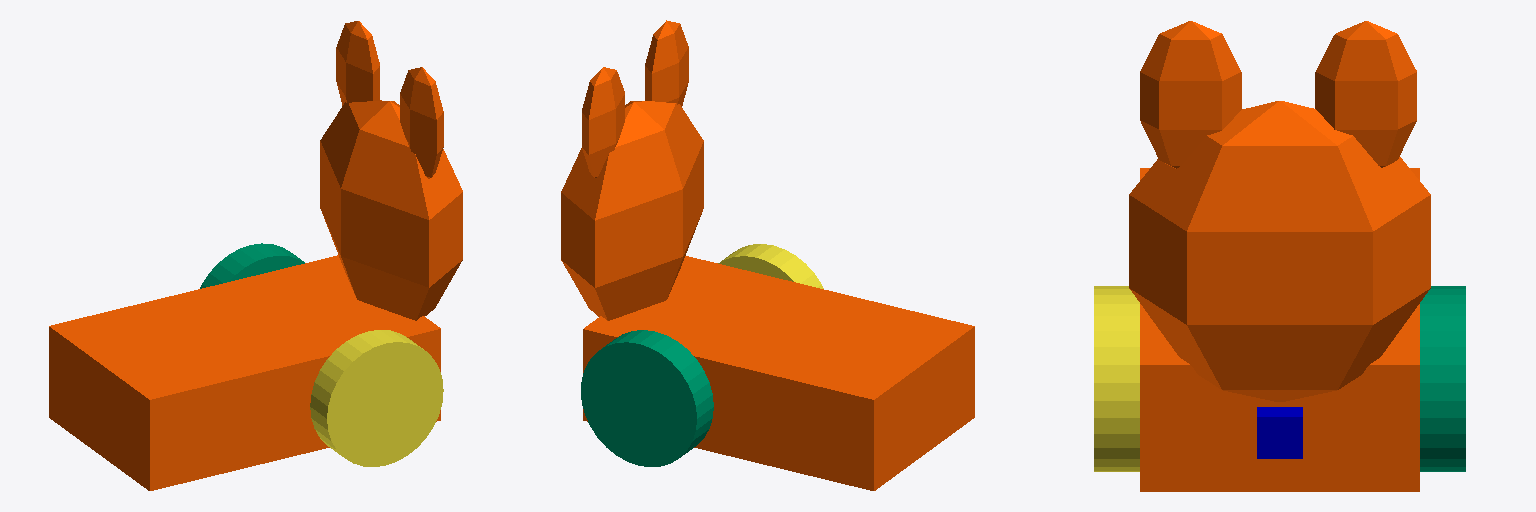
robot.urdf — stubbs:
<?xml version="1.0" ?>
<!-- =================================================================================== -->
<!-- |    This document was autogenerated by xacro from [local-path]/catkin_ws/src/stubbs/stubbs_description/urdf/stubbs.xacro | -->
<!-- |    EDITING THIS FILE BY HAND IS NOT RECOMMENDED                                 | -->
<!-- =================================================================================== -->
<robot name="stubbs" xmlns:xacro="http://www.ros.org/wiki/xacro">
  <material name="black">
    <color rgba="0.0 0.0 0.0 1.0"/>
  </material>
  <material name="blue">
    <color rgba="0.0 0.0 0.8 1.0"/>
  </material>
  <material name="green">
    <color rgba="0.0 0.8 0.0 1.0"/>
  </material>
  <material name="grey">
    <color rgba="0.2 0.2 0.2 1.0"/>
  </material>
  <material name="orange">
    <color rgba="1.0 0.423529411765 0.0392156862745 1.0"/>
  </material>
  <material name="brown">
    <color rgba="0.870588235294 0.811764705882 0.764705882353 1.0"/>
  </material>
  <material name="red">
    <color rgba="0.8 0.0 0.0 1.0"/>
  </material>
  <material name="white">
    <color rgba="1.0 1.0 1.0 1.0"/>
  </material>
  <gazebo>
    <plugin filename="libgazebo_ros_control.so" name="gazebo_ros_control">
      <robotNamespace>/stubbs</robotNamespace>
    </plugin>
  </gazebo>
  <gazebo reference="camera">
    <material>Gazebo/Blue</material>
    <sensor name="camera1" type="camera">
      <update_rate>30.0</update_rate>
      <camera name="head">
        <horizontal_fov>1.3962634</horizontal_fov>
        <image>
          <width>800</width>
          <height>800</height>
          <format>R8G8B8</format>
        </image>
        <clip>
          <near>0.02</near>
          <far>300</far>
        </clip>
      </camera>
      <plugin filename="libgazebo_ros_camera.so" name="camera_controller">
        <alwaysOn>true</alwaysOn>
        <updateRate>0.0</updateRate>
        <cameraName>stubbs/camera1</cameraName>
        <imageTopicName>image_raw</imageTopicName>
        <cameraInfoTopicName>camera_info</cameraInfoTopicName>
        <frameName>camera_link</frameName>
        <hackBaseline>0.07</hackBaseline>
        <distortionK1>0.0</distortionK1>
        <distortionK2>0.0</distortionK2>
        <distortionK3>0.0</distortionK3>
        <distortionT1>0.0</distortionT1>
        <distortionT2>0.0</distortionT2>
      </plugin>
    </sensor>
  </gazebo>
  <gazebo reference="body">
    <material>Gazebo/White</material>
  </gazebo>
  <gazebo reference="left_wheel">
    <material>Gazebo/White</material>
  </gazebo>
  <gazebo reference="right_wheel">
    <material>Gazebo/White</material>
  </gazebo>
  <link name="world"/>
  <joint name="base_joint" type="fixed">
    <parent link="world"/>
    <child link="body"/>
  </joint>
  <link name="body">
    <collision>
      <origin rpy="0 0 0" xyz="0 0 0"/>
      <geometry>
        <box size="0.5 0.3 0.15"/>
      </geometry>
    </collision>
    <visual>
      <origin rpy="0 0 0" xyz="0 0 0"/>
      <geometry>
        <mesh filename="package://stubbs_description/meshes/stubbs_body.stl"/>
      </geometry>
      <material name="orange"/>
    </visual>
    <inertial>
      <origin rpy="0 0 0" xyz="0 0 0"/>
      <mass value="1"/>
      <inertia ixx="0.009375" ixy="0" ixz="0" iyy="0.0227083333333" iyz="0" izz="0.0227083333333"/>
    </inertial>
  </link>
  <link name="left_wheel">
    <collision>
      <origin rpy="1.5707 0 0" xyz="0 0 0"/>
      <geometry>
        <cylinder length="0.05" radius=".1"/>
      </geometry>
    </collision>
    <visual>
      <origin rpy="1.5707 0 0" xyz="0 0 0"/>
      <geometry>
        <cylinder length="0.05" radius=".1"/>
      </geometry>
    </visual>
    <inertial>
      <origin rpy="0 0 0" xyz="0 0 0"/>
      <mass value="0.4"/>
      <inertia ixx="0.00108333333333" ixy="0" ixz="0" iyy="0.00108333333333" iyz="0" izz="0.002"/>
    </inertial>
  </link>
  <link name="right_wheel">
    <collision>
      <origin rpy="1.5707 0 0" xyz="0 0 0"/>
      <geometry>
        <cylinder length="0.05" radius=".1"/>
      </geometry>
    </collision>
    <visual>
      <origin rpy="1.5707 0 0" xyz="0 0 0"/>
      <geometry>
        <cylinder length="0.05" radius=".1"/>
      </geometry>
    </visual>
    <inertial>
      <origin rpy="0 0 0" xyz="0 0 0"/>
      <mass value="0.4"/>
      <inertia ixx="0.00108333333333" ixy="0" ixz="0" iyy="0.00108333333333" iyz="0" izz="0.002"/>
    </inertial>
  </link>
  <link name="caster_wheel">
    <collision>
      <origin rpy="0 0 0" xyz="0 0 0"/>
      <geometry>
        <sphere radius="0.025"/>
      </geometry>
    </collision>
    <visual>
      <origin rpy="0 0 0" xyz="0 0 0"/>
      <geometry>
        <sphere radius="0.025"/>
      </geometry>
    </visual>
    <inertial>
      <origin rpy="0 0 0" xyz="0 0 0"/>
      <mass value="0.2"/>
      <inertia ixx="5e-05" ixy="0" ixz="0" iyy="5e-05" iyz="0" izz="5e-05"/>
    </inertial>
  </link>
  <joint name="left_wheel_hinge" type="continuous">
    <origin rpy="0 0 0" xyz="0.125 0.175 0"/>
    <child link="left_wheel"/>
    <parent link="body"/>
    <axis xyz="0 1 0"/>
    <limit effort="100" velocity="100"/>
    <joint_properties damping="0.0" friction="0.0"/>
  </joint>
  <joint name="right_wheel_hinge" type="continuous">
    <origin rpy="0 0 0" xyz="0.125 -0.175 0"/>
    <child link="right_wheel"/>
    <parent link="body"/>
    <axis xyz="0 1 0"/>
    <limit effort="100" velocity="100"/>
    <joint_properties damping="0.0" friction="0.0"/>
  </joint>
  <joint name="caster_to_body" type="fixed">
    <origin rpy="0 0 0" xyz="-0.125 0 -.075"/>
    <child link="caster_wheel"/>
    <parent link="body"/>
    <axis xyz="0 1 0"/>
  </joint>
  <transmission name="l_wheel_trans">
    <type>transmission_interface/SimpleTransmission</type>
    <joint name="left_wheel_hinge">
      <hardwareInterface>EffortJointInterface</hardwareInterface>
    </joint>
    <actuator name="l_motor">
      <mechanicalReduction>1</mechanicalReduction>
    </actuator>
  </transmission>
  <transmission name="r_wheel_trans">
    <type>transmission_interface/SimpleTransmission</type>
    <joint name="right_wheel_hinge">
      <hardwareInterface>EffortJointInterface</hardwareInterface>
    </joint>
    <actuator name="r_motor">
      <mechanicalReduction>1</mechanicalReduction>
    </actuator>
  </transmission>
  <link name="camera">
    <collision>
      <origin rpy="0 0 0" xyz="0 0 0"/>
      <geometry>
        <box size=".05 .05 .05"/>
      </geometry>
    </collision>
    <visual>
      <origin rpy="0 0 0" xyz="0 0 0"/>
      <geometry>
        <box size=".05 .05 .05"/>
      </geometry>
      <material name="blue"/>
    </visual>
    <inertial>
      <origin rpy="0 0 0" xyz="0 0 0"/>
      <mass value=".1"/>
      <inertia ixx="1.0" ixy="0.0" ixz="0.0" iyy="1.0" iyz="0.0" izz="1.0"/>
    </inertial>
  </link>
  <joint name="camera_fix" type="fixed">
    <origin rpy="0 0 0" xyz="0.25 0 0"/>
    <child link="camera"/>
    <parent link="body"/>
    <axis xyz="0 1 0"/>
  </joint>
</robot>

--- What the picture shows (computed from the rendered views, not written in the file) ---
3 views of the same robot in one strip: view 1: azimuth 30°, elevation 25°; view 2: azimuth 150°, elevation 25°; view 3: azimuth 270°, elevation 25° (orthographic).
Robot: stubbs — 6 links, 5 joints (2 continuous, 3 fixed); root link world; default pose: every joint at zero.
Links seen in each view (by area): view 1: body, right_wheel, left_wheel; view 2: body, left_wheel, right_wheel; view 3: body, left_wheel, right_wheel, camera.
Link boxes in pixels (x1,y1,x2,y2): body: (49,21,462,490); right_wheel: (310,330,443,466); left_wheel: (200,243,304,288); body: (561,20,974,490); left_wheel: (581,330,713,466); right_wheel: (718,244,823,288); body: (1129,21,1430,491); left_wheel: (1420,286,1465,471); right_wheel: (1094,286,1139,471); camera: (1257,407,1302,458).
Bounding box of the posed robot: 0.5664 × 0.4 × 0.5823 m (x, y, z).
1 mesh visuals loaded from 1 distinct referenced files (1 binary STL).
